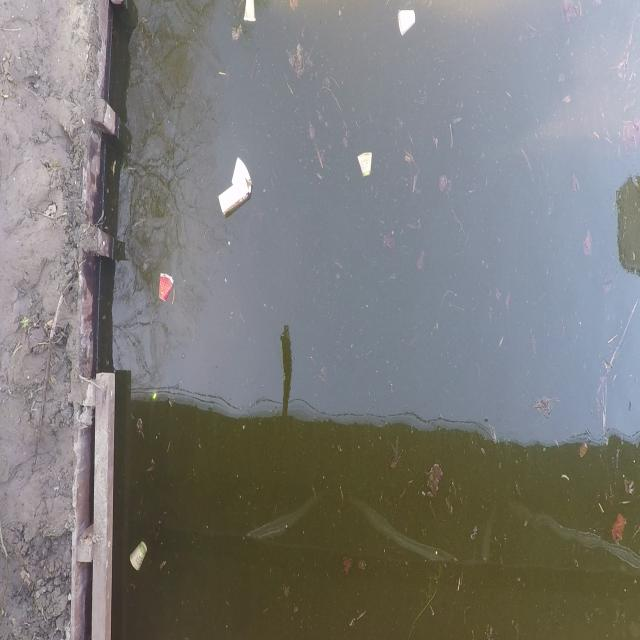Non plastique: (125, 534, 153, 579), (154, 270, 178, 308), (354, 145, 378, 183), (396, 5, 421, 41)
